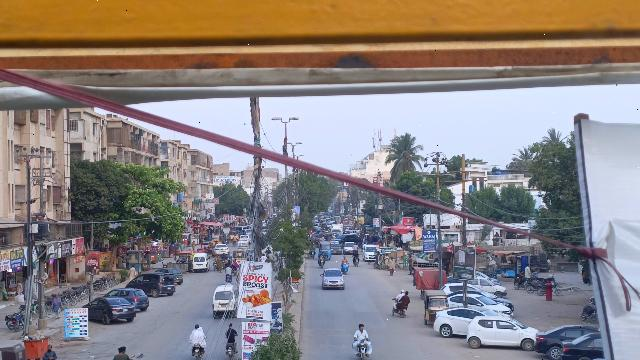Bike: (390, 298, 410, 318), (355, 338, 369, 360), (189, 343, 205, 360), (225, 342, 238, 360), (341, 262, 350, 275)
Car: (466, 311, 538, 350), (535, 324, 598, 357), (432, 307, 495, 338), (82, 296, 135, 325), (125, 273, 177, 297), (561, 331, 602, 360), (106, 288, 149, 310), (320, 268, 345, 290)
Person: (187, 322, 207, 344), (352, 322, 370, 343), (49, 292, 62, 319), (223, 320, 238, 341), (42, 341, 56, 360), (386, 257, 397, 276), (395, 287, 404, 301), (402, 291, 411, 304), (340, 255, 349, 264)
Rickshaw: (421, 289, 447, 327)
Van: (211, 284, 239, 318), (191, 251, 210, 273)
